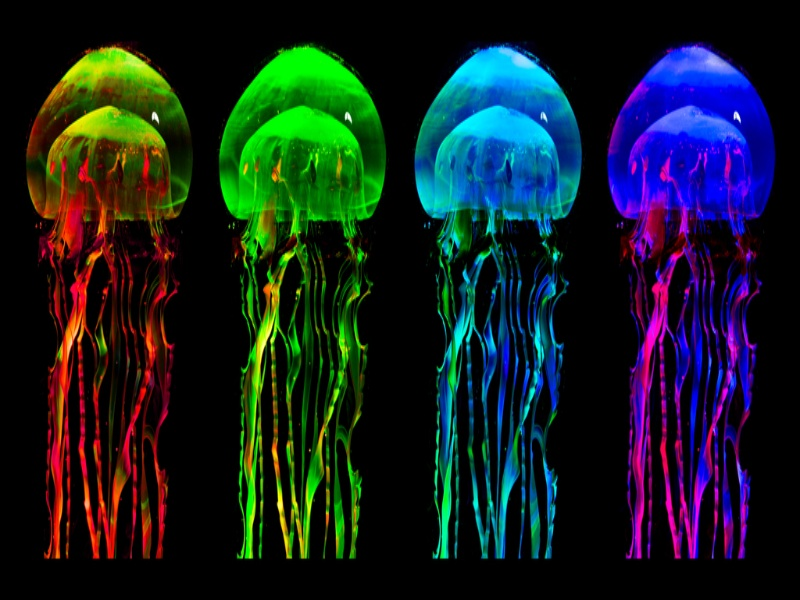Jellyfish: (609, 40, 776, 580), (26, 38, 191, 557), (219, 40, 384, 557), (419, 40, 581, 563)
